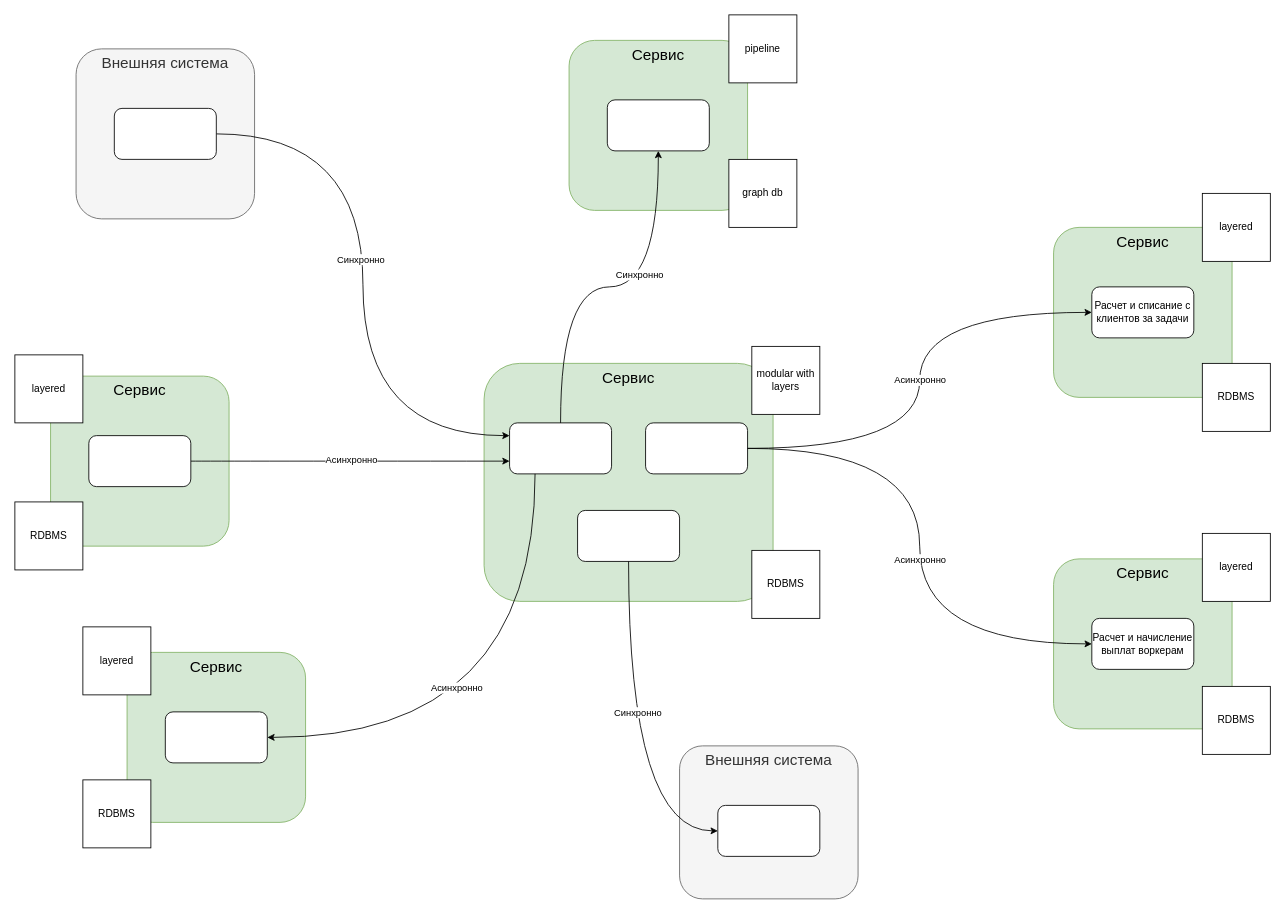
This 1285x914 diagram has some shape labels left out. The shapes that lost their labels are listed below. From the top down, each one's centre as x and y in pixels, then its label:
the point at 164,133: Happy Cat Box (авто-регистрация клиентов)
the point at 657,125: Метчинг воркеров под клиентов
the point at 139,461: Тестирование и отбор кандидатов в воркеры
the point at 560,448: Управление задачами
the point at 696,448: Контроль качества работы воркеров
the point at 628,535: Сбор расходников под задачу
the point at 215,737: Мотивация менеджеров
the point at 768,830: Производство и доставка печенья
